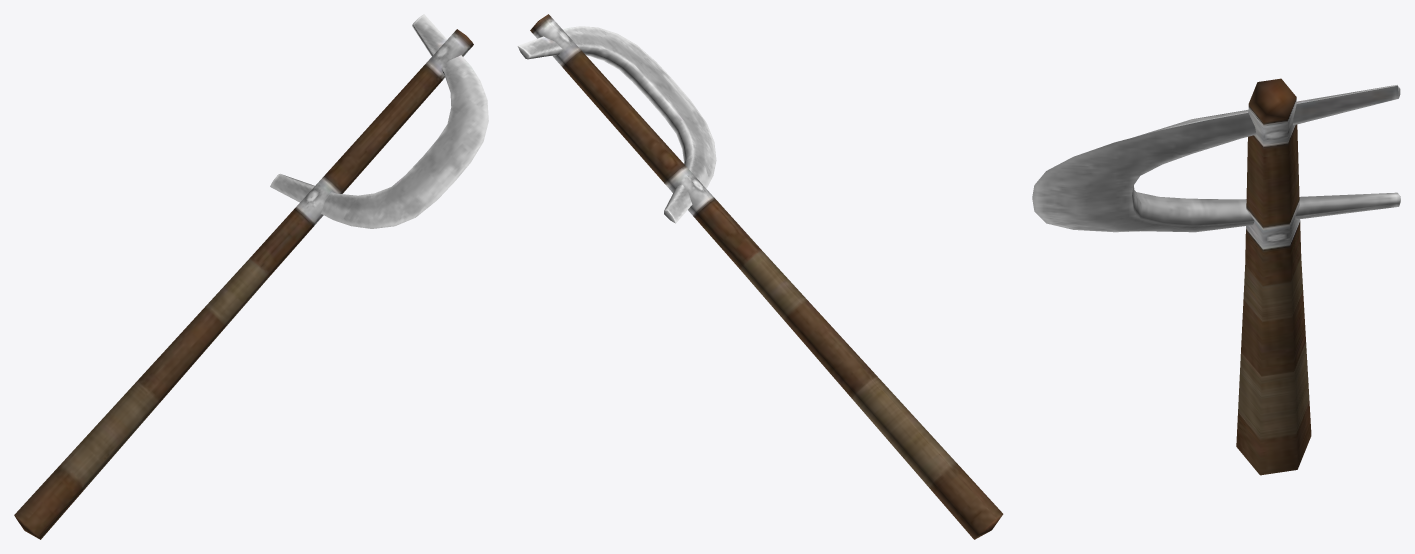
File: weapon-copperweapons.glb
3 views of the same model, side by side, from view 1: azimuth 30°, elevation 25°; view 2: azimuth 150°, elevation 25°; view 3: azimuth 270°, elevation 25° (orthographic). The views are drawn at different scales.
Size of the model in its own units: 0.9474 by 0.8062 by 0.3332.
Materials: 1 (1 with a texture image).
